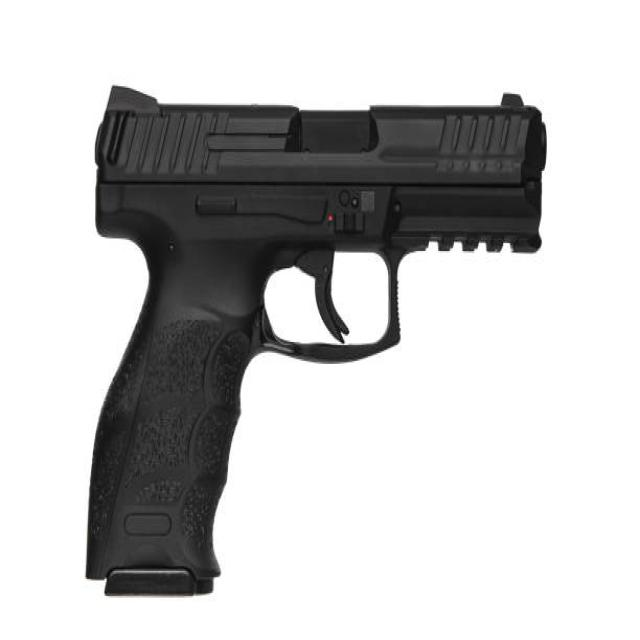pistol: (83, 70, 558, 608)
